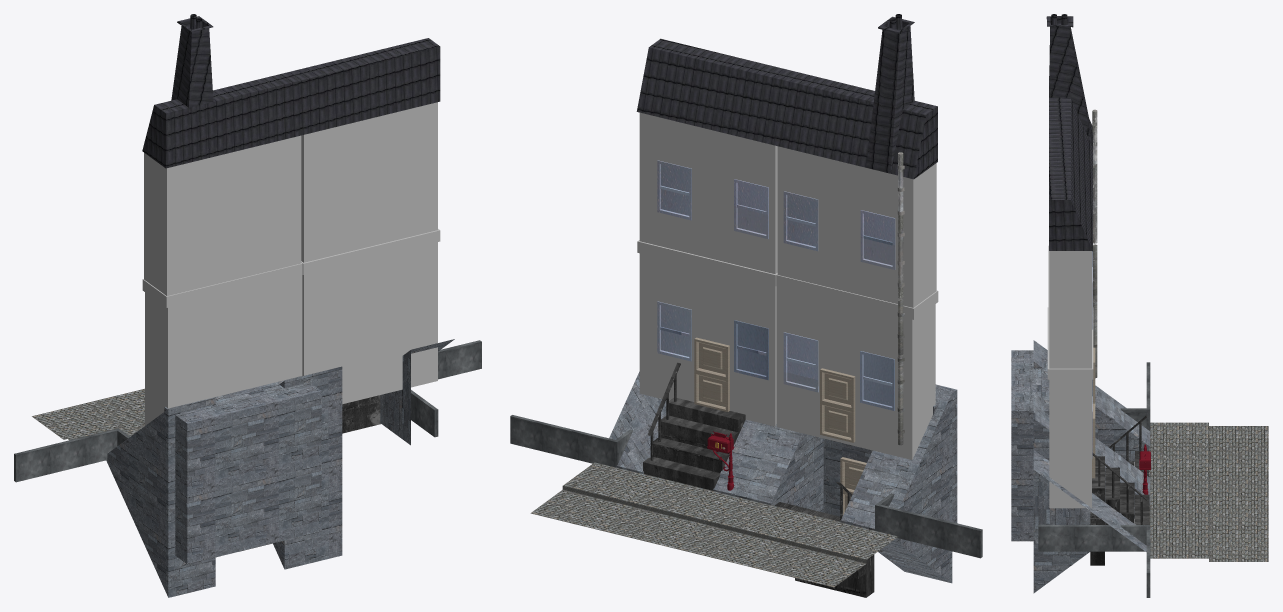
File: TheStreet.fbx
3 renders of one model, left to right at view 1: azimuth 30°, elevation 25°; view 2: azimuth 150°, elevation 25°; view 3: azimuth 270°, elevation 25°, orthographic. The views are drawn at different scales.
Parts seen in each view (by area): view 1: House_A, Descent, House_B, Roof, Fences, Street, Decent, Stairs; view 2: House_A, House_B, Roof, Street, Descent, Windows_A, Windows_B, Stairs (×2), Fences, Doors, Decent, Pipe_B (+4 smaller); view 3: Street, Descent, Roof, House_A, House_B, Fences, Decent, Stairs (×2), Pipe_A, Pipe_B, Railing, Doors (+1 smaller).
Part boxes in pixels (x1=…): House_A: x1=142, y1=102, x2=440, y2=307; Descent: x1=106, y1=366, x2=342, y2=597; House_B: x1=145, y1=242, x2=437, y2=425; Roof: x1=142, y1=14, x2=440, y2=168; Fences: x1=14, y1=340, x2=481, y2=482; Street: x1=32, y1=388, x2=144, y2=440; Decent: x1=380, y1=339, x2=454, y2=445; Stairs: x1=342, y1=395, x2=380, y2=433; House_A: x1=637, y1=112, x2=938, y2=319; House_B: x1=639, y1=253, x2=935, y2=459; Roof: x1=636, y1=14, x2=937, y2=179; Street: x1=530, y1=462, x2=898, y2=587; Descent: x1=713, y1=384, x2=957, y2=583; Windows_A: x1=657, y1=160, x2=895, y2=269; Windows_B: x1=657, y1=301, x2=894, y2=410; Stairs (×2): x1=643, y1=398, x2=882, y2=597; Fences: x1=510, y1=415, x2=982, y2=558; Doors: x1=694, y1=337, x2=855, y2=442; Decent: x1=609, y1=371, x2=666, y2=473; Pipe_B: x1=897, y1=299, x2=904, y2=445; Street: x1=1149, y1=422, x2=1268, y2=561; Descent: x1=1011, y1=340, x2=1150, y2=593; Roof: x1=1046, y1=14, x2=1092, y2=250; House_A: x1=1047, y1=245, x2=1093, y2=379; House_B: x1=1049, y1=379, x2=1091, y2=508; Fences: x1=1038, y1=362, x2=1150, y2=597; Decent: x1=1033, y1=450, x2=1146, y2=551; Stairs (×2): x1=1090, y1=451, x2=1149, y2=565; Pipe_A: x1=1092, y1=109, x2=1097, y2=243; Pipe_B: x1=1092, y1=244, x2=1097, y2=378; Railing: x1=1092, y1=453, x2=1146, y2=524; Doors: x1=1092, y1=347, x2=1095, y2=478.
Bounding box in the file's own units: 135 × 155 × 69.6.
